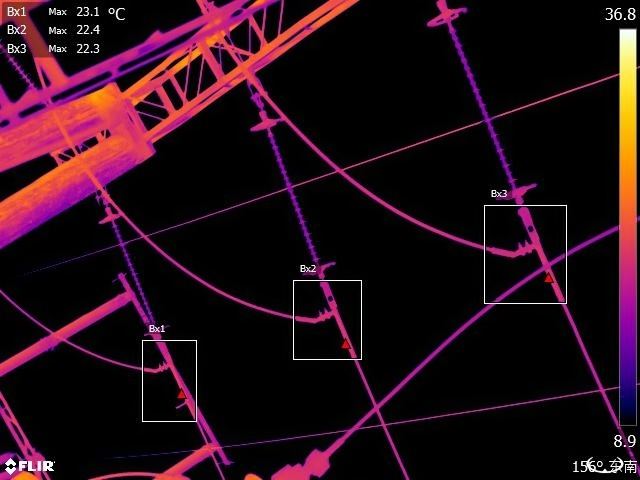clamp: (509, 225, 551, 267), (311, 290, 349, 327), (155, 351, 189, 383)
insulator: (424, 3, 546, 211), (251, 105, 346, 287), (97, 203, 168, 342)
